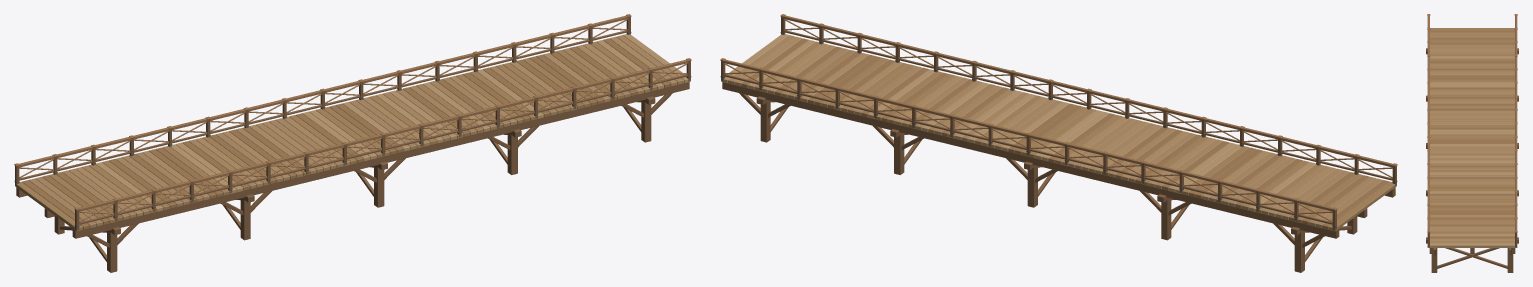
The model's file is region_bridge.glb.
3 views of the same model, side by side, from view 1: azimuth 30°, elevation 25°; view 2: azimuth 150°, elevation 25°; view 3: azimuth 270°, elevation 25° (orthographic). The views are drawn at different scales.
Parts seen in each view (by area): view 1: region_bridge; view 2: region_bridge; view 3: region_bridge.
Boxes of the visible parts, x1,y1,x2,y2 form: region_bridge: (14, 14, 691, 272); region_bridge: (720, 14, 1397, 272); region_bridge: (1426, 14, 1518, 272).
Size of the model in its own units: 46.09 by 5.36 by 8.3.
